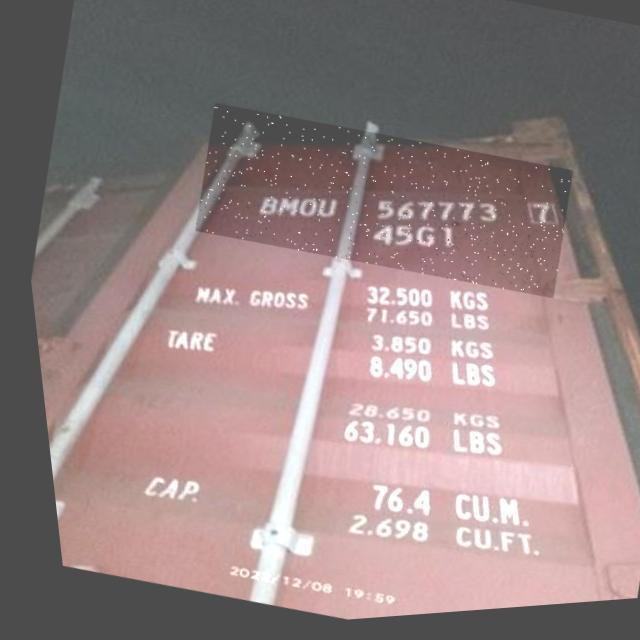container_number_h: (178, 86, 578, 327)
